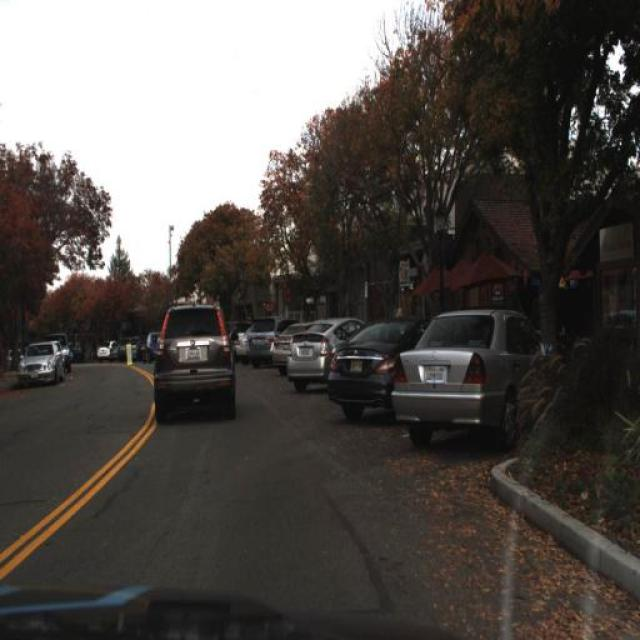car: (392, 302, 544, 450), (149, 297, 242, 428), (328, 314, 422, 422), (286, 314, 356, 388), (16, 337, 63, 387), (245, 312, 283, 370), (246, 313, 276, 363), (274, 323, 301, 378), (230, 318, 252, 362), (142, 327, 162, 358), (96, 337, 112, 361)
